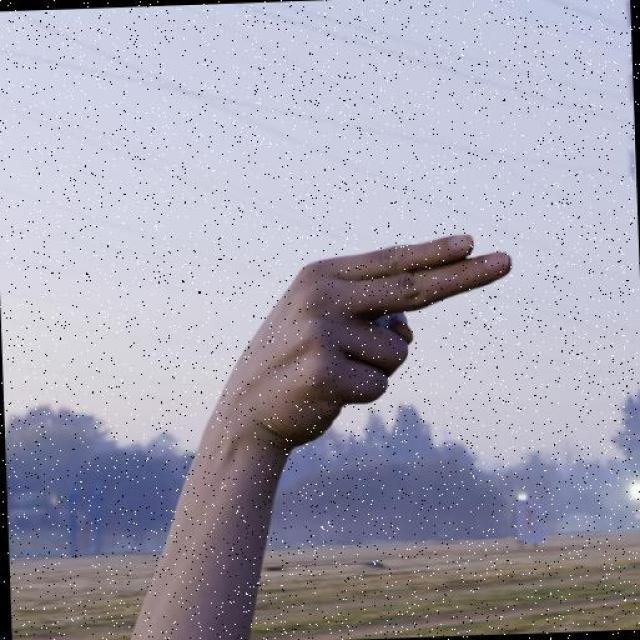H: (186, 232, 519, 449)
